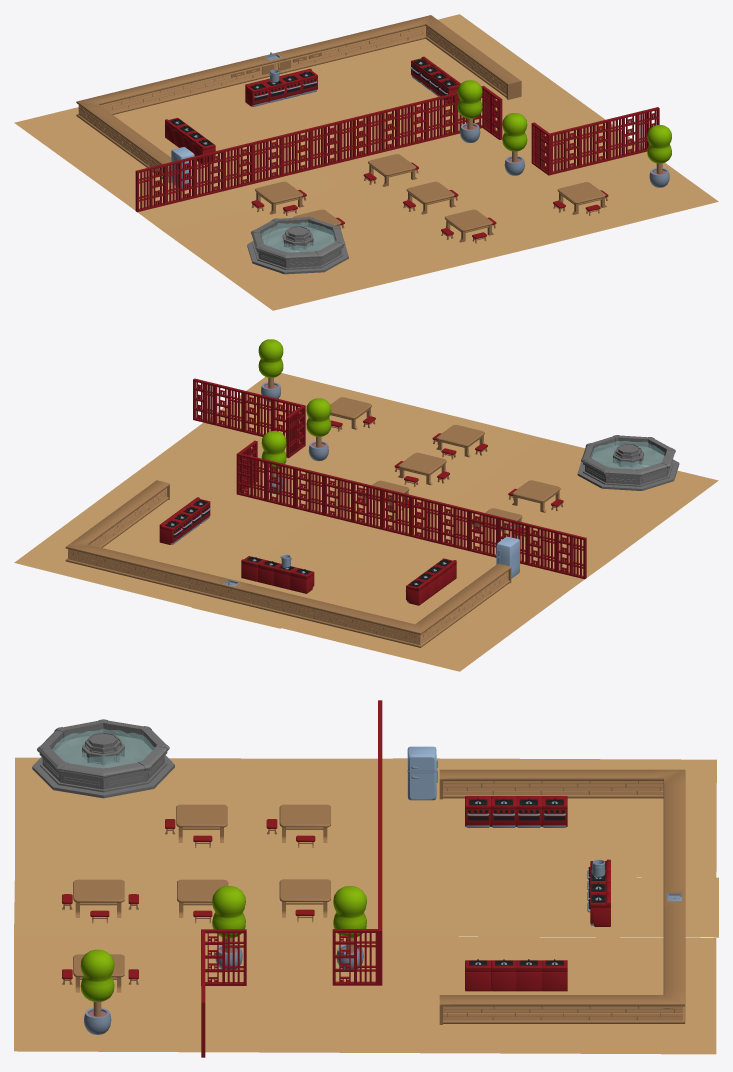
File: mapa_prueba.glb
3 views of the same model, one above another, from view 1: azimuth 30°, elevation 25°; view 2: azimuth 150°, elevation 25°; view 3: azimuth 270°, elevation 25° (orthographic). The views are drawn at different scales.
Visible parts, largest first — view 1: terriccio.001_terriccio_0, fontana base_Material.001_0, fontana base parte superiore_Material.001_0, Wall_RedWood, acqua_acqua_0, Decoration_Plant2.001, Decoration_Plant2.003, Decoration_Plant2, Wall_RedWood.008, Wall_RedWood.001, Wall_RedWood.017, Wall_RedWood.009 (+38 smaller); view 2: terriccio.001_terriccio_0, fontana base_Material.001_0, fontana base parte superiore_Material.001_0, Decoration_Plant2, Wall_RedWood, Wall_RedWood.010, Wall_RedWood.006, Wall_RedWood.009, Wall_RedWood.007, Wall_RedWood.011, Decoration_Plant2.003, Wall_RedWood.002 (+35 smaller); view 3: terriccio.001_terriccio_0, fontana base_Material.001_0, fontana base parte superiore_Material.001_0, Decoration_Plant2.003, acqua_acqua_0, Wall_RedWood.015, Decoration_Plant2, Wall_RedWood.013, Decoration_Plant2.001, Environment_Table.004, Environment_Counter_Straight.002, Environment_Table.003 (+25 smaller).
Boxes of the visible parts, x1,y1,x2,y2 form: terriccio.001_terriccio_0: (14,14,718,310); fontana base_Material.001_0: (247,227,348,274); fontana base parte superiore_Material.001_0: (251,216,345,261); Wall_RedWood: (135,163,166,212); acqua_acqua_0: (261,222,335,252); Decoration_Plant2.001: (457,80,482,142); Decoration_Plant2.003: (647,125,671,187); Decoration_Plant2: (502,113,527,175); Wall_RedWood.008: (368,107,398,155); Wall_RedWood.001: (165,156,195,204); Wall_RedWood.017: (550,126,580,174); Wall_RedWood.009: (397,100,427,148); terriccio.001_terriccio_0: (14,373,718,671); fontana base_Material.001_0: (577,445,679,490); fontana base parte superiore_Material.001_0: (581,435,675,478); Decoration_Plant2: (306,398,331,461); Wall_RedWood: (556,531,586,579); Wall_RedWood.010: (236,453,266,501); Wall_RedWood.006: (410,495,440,543); Wall_RedWood.009: (294,467,324,515); Wall_RedWood.007: (439,502,469,550); Wall_RedWood.011: (265,460,295,508); Decoration_Plant2.003: (258,339,283,401); Wall_RedWood.002: (468,509,498,557); terriccio.001_terriccio_0: (14,757,718,1054); fontana base_Material.001_0: (32,735,174,798); fontana base parte superiore_Material.001_0: (37,719,169,780); Decoration_Plant2.003: (80,949,114,1034); acqua_acqua_0: (52,729,154,767); Wall_RedWood.015: (332,929,378,985); Decoration_Plant2: (212,886,245,969); Wall_RedWood.013: (201,929,246,985); Decoration_Plant2.001: (333,886,366,969); Environment_Table.004: (73,879,124,917); Environment_Counter_Straight.002: (601,769,650,798); Environment_Table.003: (176,804,227,842).
Bounding box in the file's own units: 58.84 × 7.69 × 57.99.
85 materials, 84 textured.
